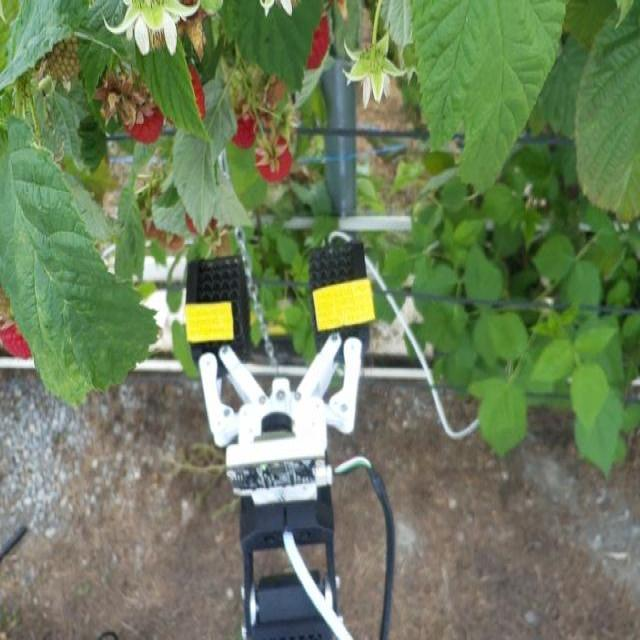Riped berries: (1, 299, 40, 364), (126, 89, 165, 148), (171, 63, 211, 118), (301, 12, 335, 72), (256, 135, 294, 183), (230, 109, 257, 142)
